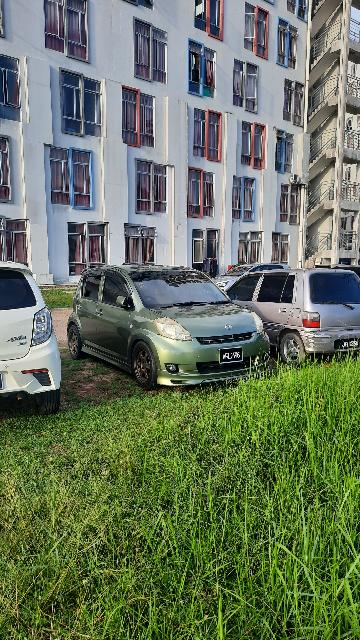License_Plate: (216, 347, 247, 366), (334, 337, 360, 352)
car: (69, 262, 282, 406), (227, 264, 360, 368), (1, 251, 73, 419)
